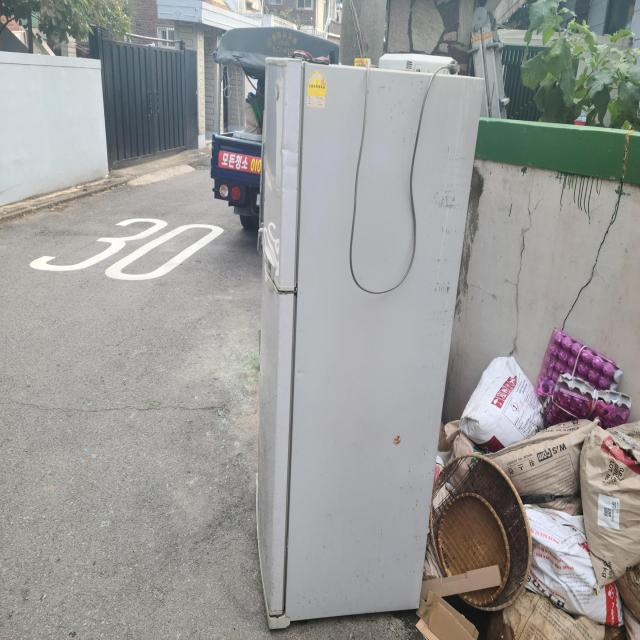refrigerator: (253, 56, 487, 631)
